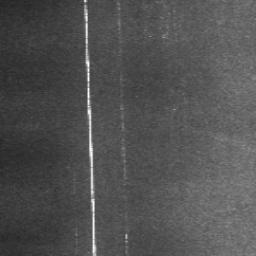Bright scratch: (84, 0, 97, 256)
